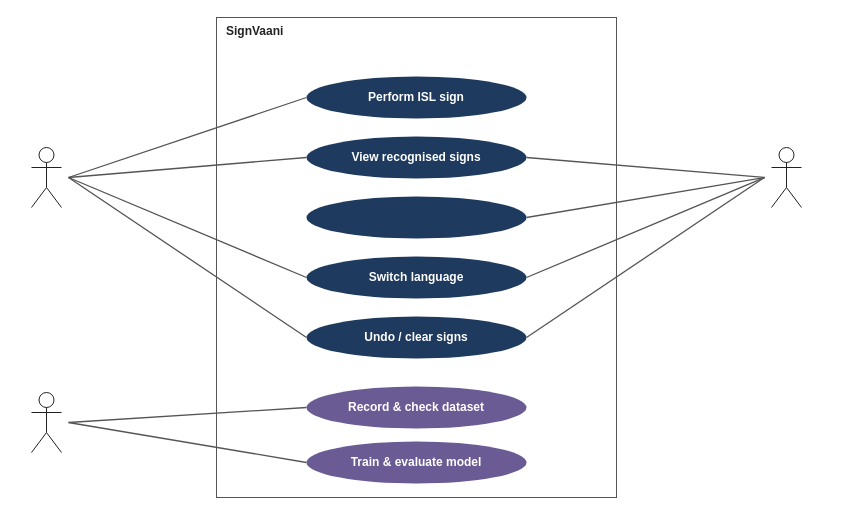
This 847x515 diagram has some shape labels left out. Here are the shapes that lost their labels. From the top down, the centre of each, then its label:
pixel 46 177: Deaf user
pixel 786 177: Hearing person
pixel 416 217: Speak sentence
pixel 46 422: Developer
